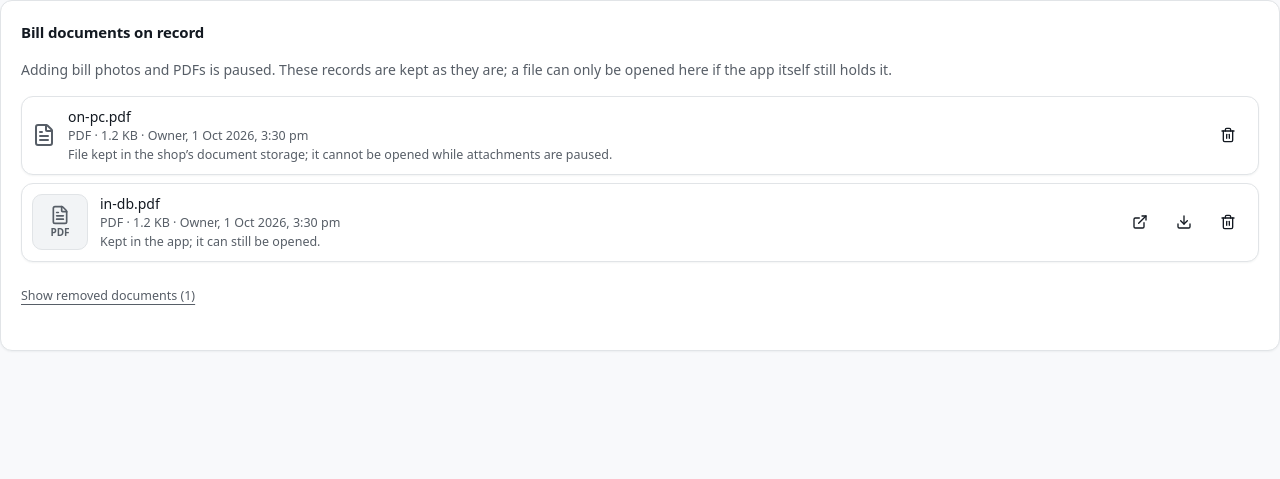
Scenario: bill attachments postponed: expense documents on record › keeps existing records visible read-only, with no upload controls and no dead file links
This screenshot has width=1280, height=479.
Check: the heading "Bill documents on record" is shown, box [21, 22, 204, 42]
Check: the text with test id "attachments-paused-note" is shown, box [21, 60, 892, 78]
// Removed records are not hidden either.
What coordinates should you click on to do the following:
click the button "Show removed documents (1)"
I would click on:
 (108, 296)
Its box is [21, 278, 195, 314].
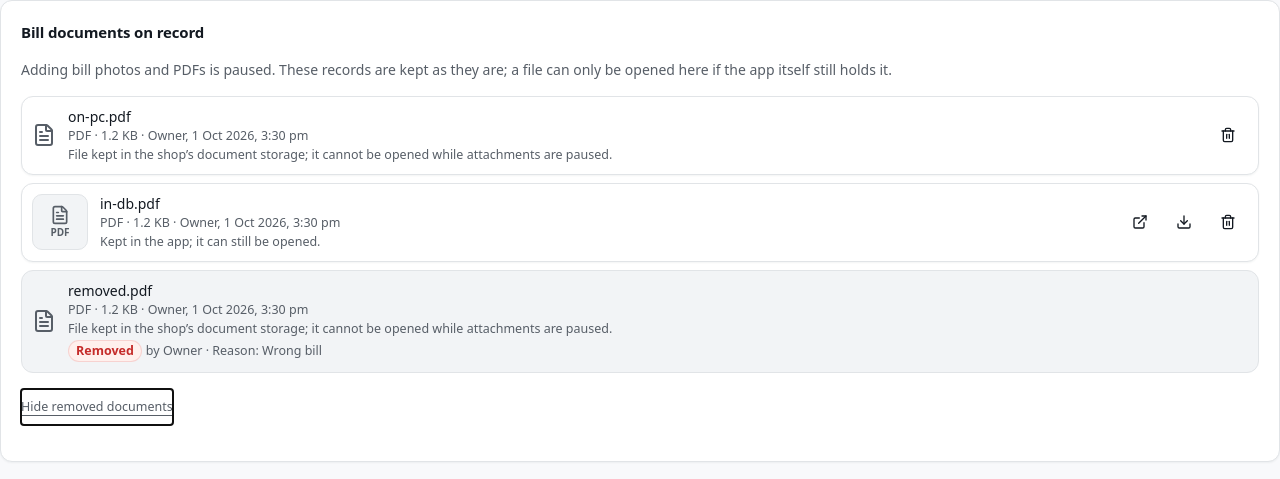
Check: the text "Removed by Owner · Reason: Wrong bill" is shown, box [68, 340, 322, 362]
